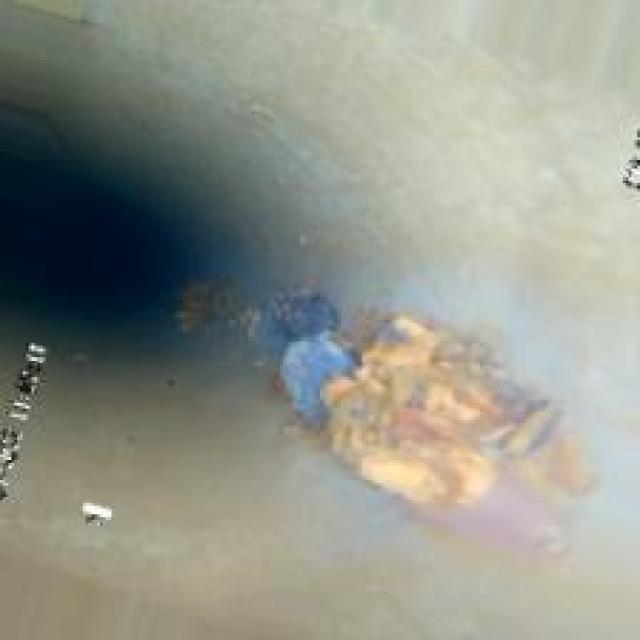stone: (166, 252, 568, 532)
